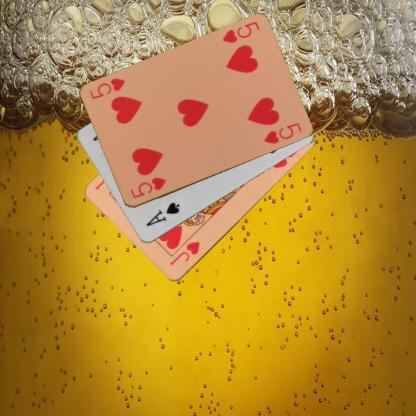5h: (219, 19, 262, 45), (128, 174, 168, 200)
As: (144, 199, 182, 228)
Jh: (167, 239, 201, 268)
